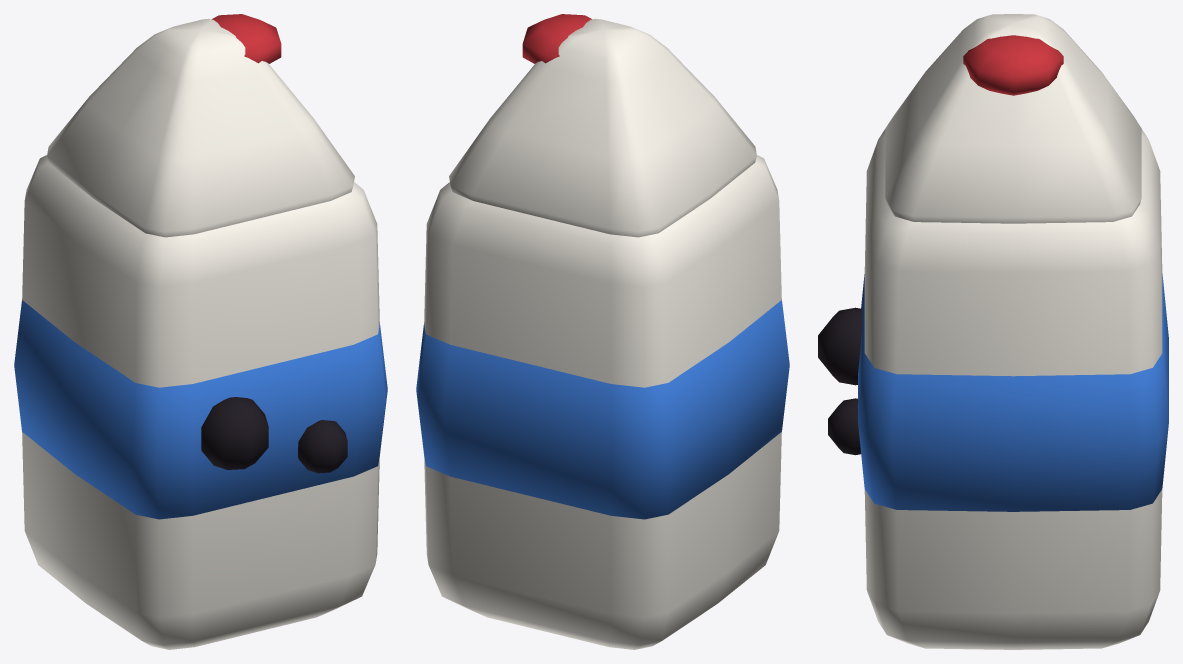
File: milk.glb
3 renders of one model, left to right at view 1: azimuth 30°, elevation 25°; view 2: azimuth 150°, elevation 25°; view 3: azimuth 270°, elevation 25°, orthographic. The views are drawn at different scales.
Parts seen in each view (by area): view 1: item; view 2: item; view 3: item.
Part boxes in pixels (left/top/right/bottom): item: left=14, top=14, right=387, bottom=649; item: left=416, top=14, right=789, bottom=649; item: left=818, top=14, right=1168, bottom=649.
Bounding box in the file's own units: 0.238 × 0.49 × 0.2666.
1 material, 1 textured.
